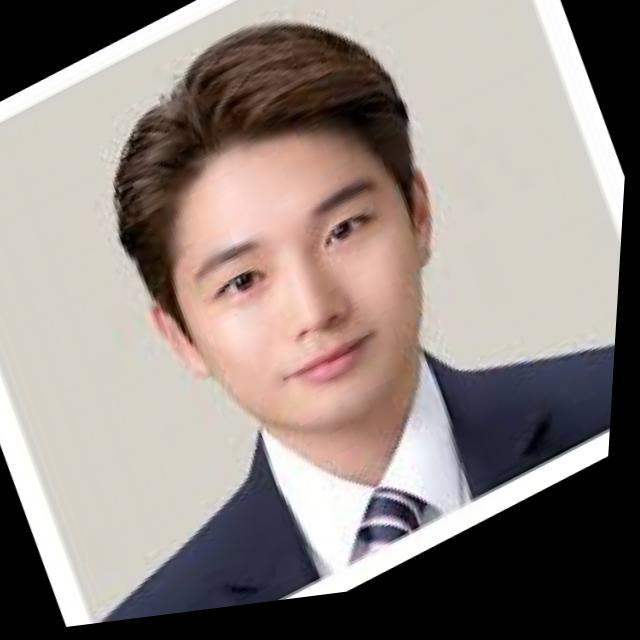Nonhelmet: (107, 18, 442, 435)
